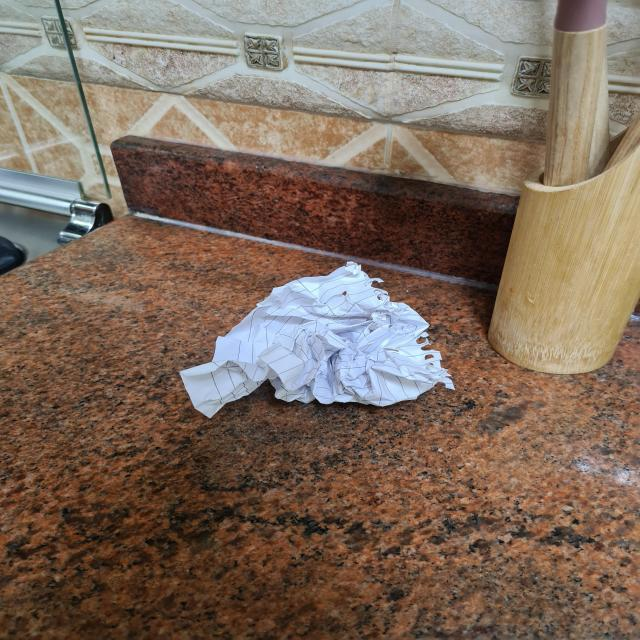cardboard paper: (179, 261, 451, 415)
